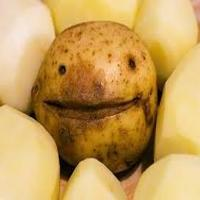biodegradable: (29, 20, 159, 174)
